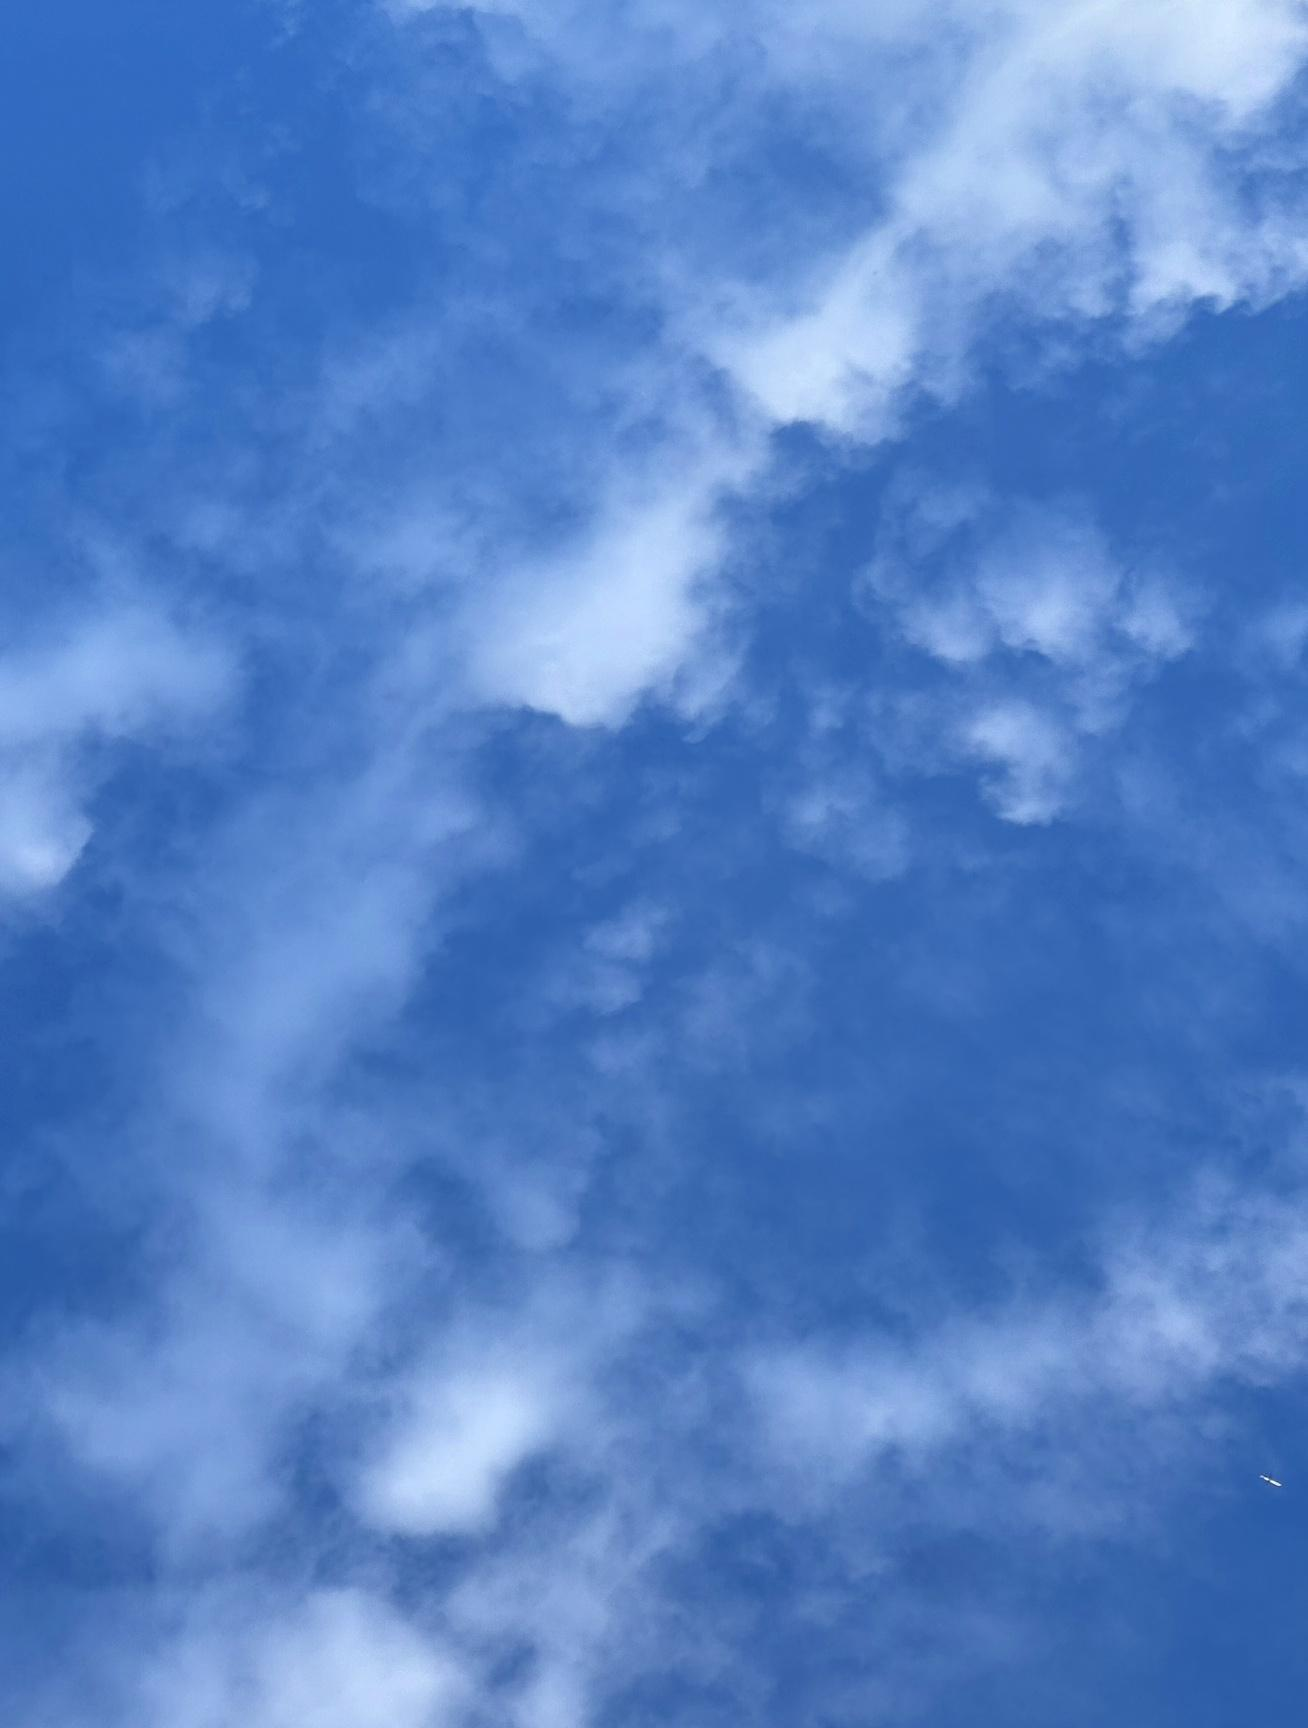Plane: (1237, 1453, 1294, 1507)
